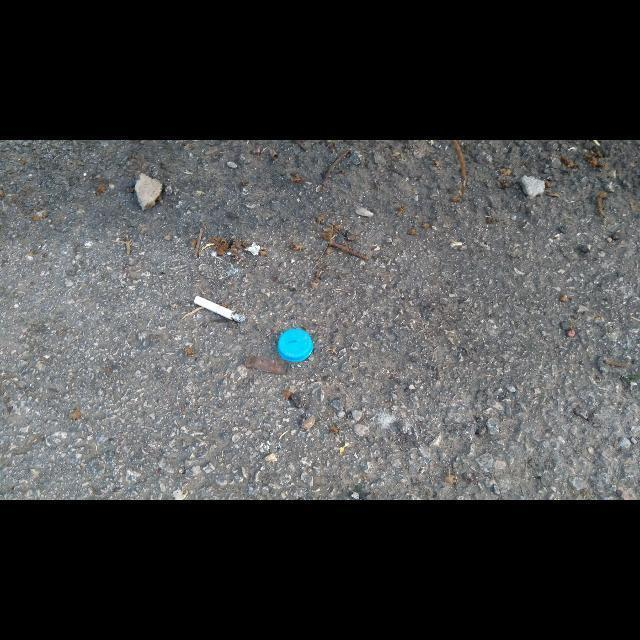Plastic: (278, 328, 312, 362)
